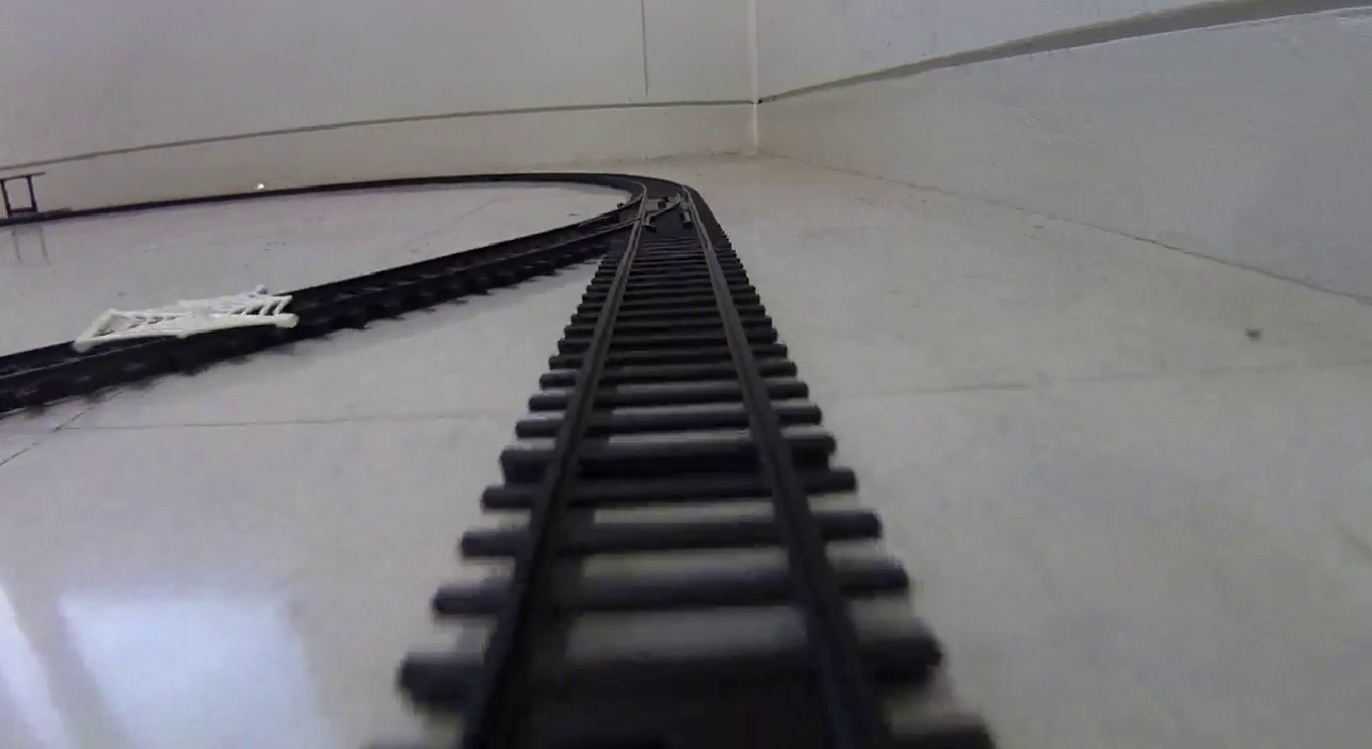web: (76, 286, 294, 335)
